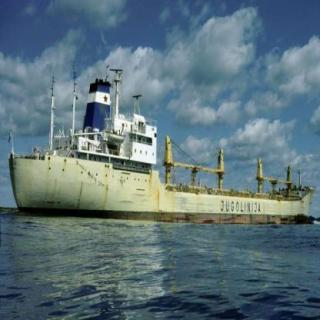Bulk Carrier: (0, 59, 319, 223)
